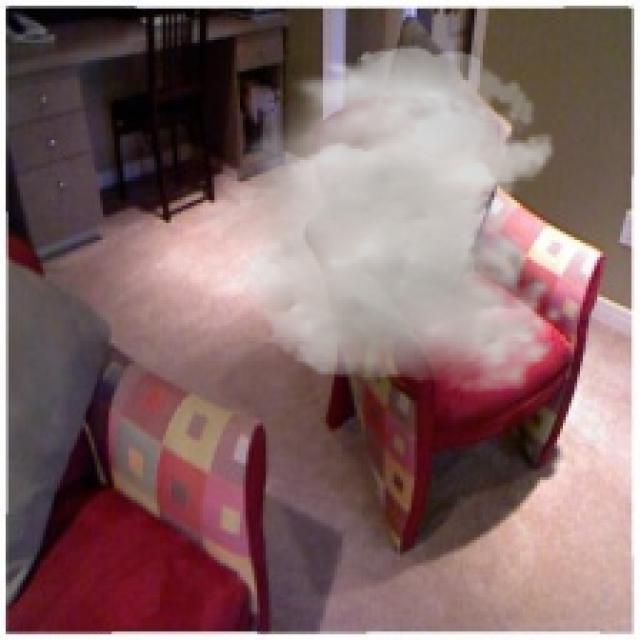Smoke: (194, 46, 566, 394)
